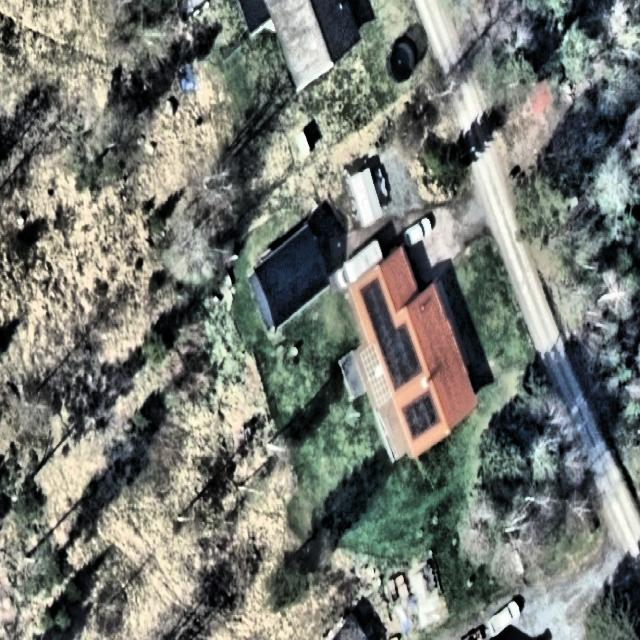roof_pv: (373, 321, 426, 392), (399, 384, 445, 449), (358, 273, 397, 334)
